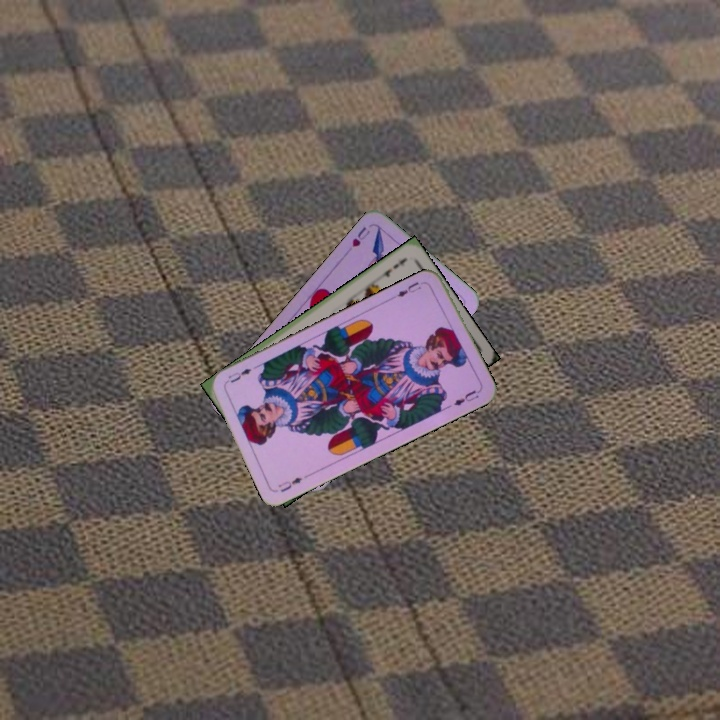E7: (374, 253, 410, 282)
EU: (390, 277, 428, 301), (274, 473, 305, 495)
HU: (348, 223, 373, 249)
